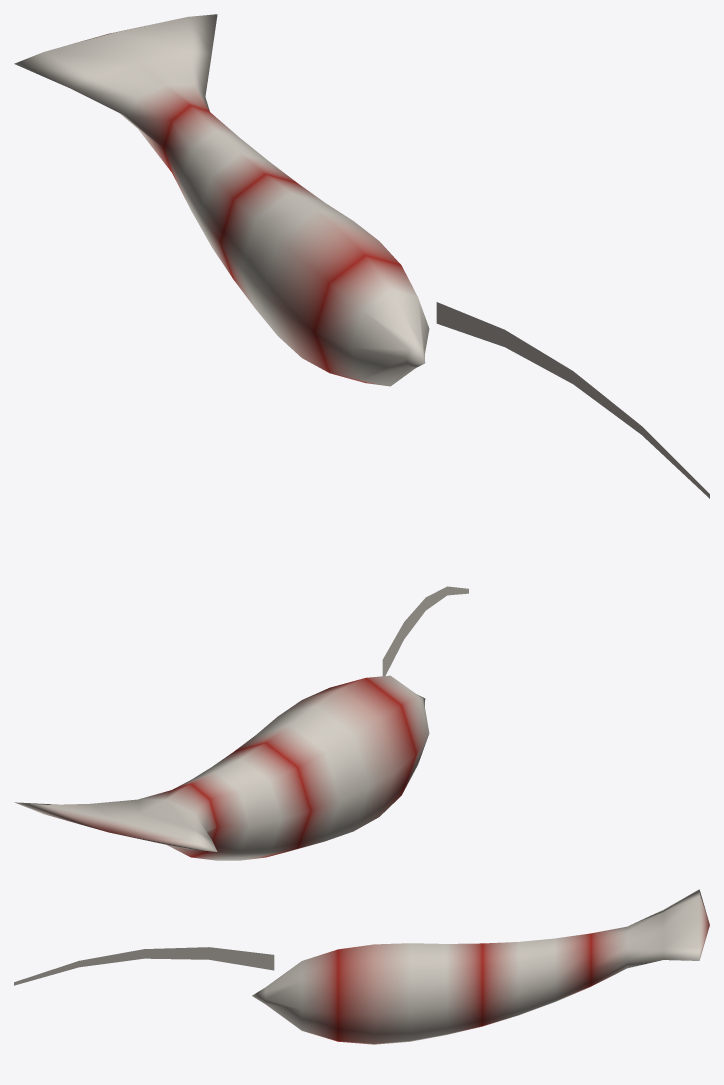
The model's file is creature-shrimp.glb.
3 renders of one model, top to bottom at view 1: azimuth 30°, elevation 25°; view 2: azimuth 150°, elevation 25°; view 3: azimuth 270°, elevation 25°, orthographic. The views are drawn at different scales.
Parts seen in each view (by area): view 1: creature-shrimp; view 2: creature-shrimp; view 3: creature-shrimp.
Boxes of the visible parts, <box> form: creature-shrimp: <box>14,14,709,498</box>; creature-shrimp: <box>14,586,468,860</box>; creature-shrimp: <box>14,889,709,1044</box>.
Size of the model in its own units: 0.0232 by 0.0158 by 0.0802.
